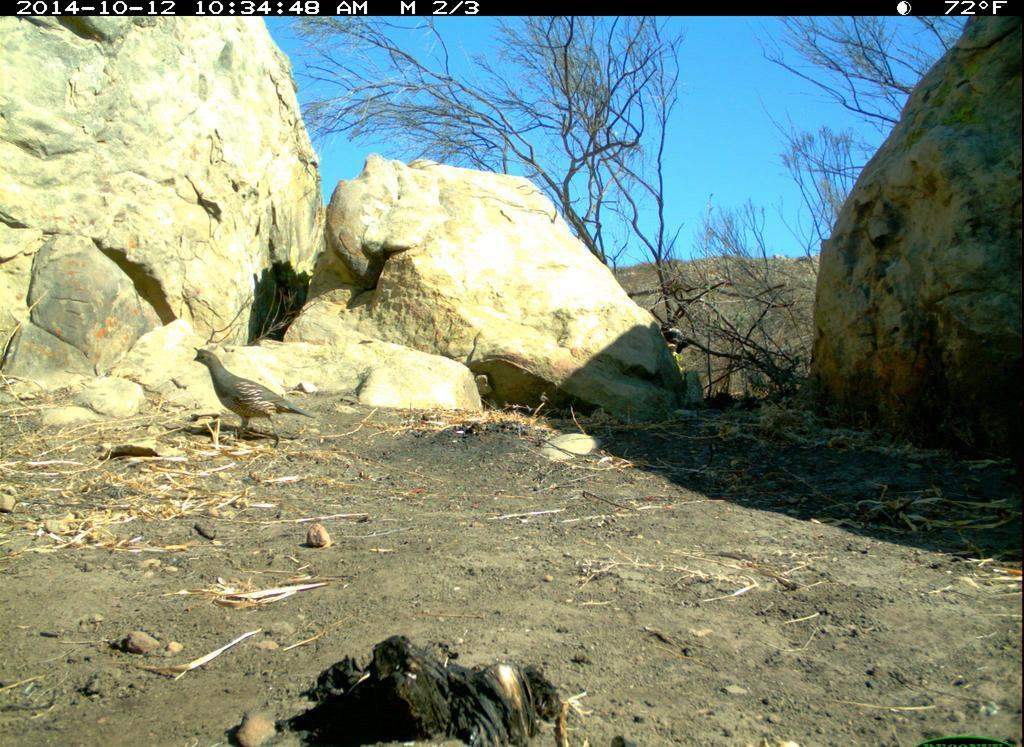bird: (182, 344, 321, 447)
